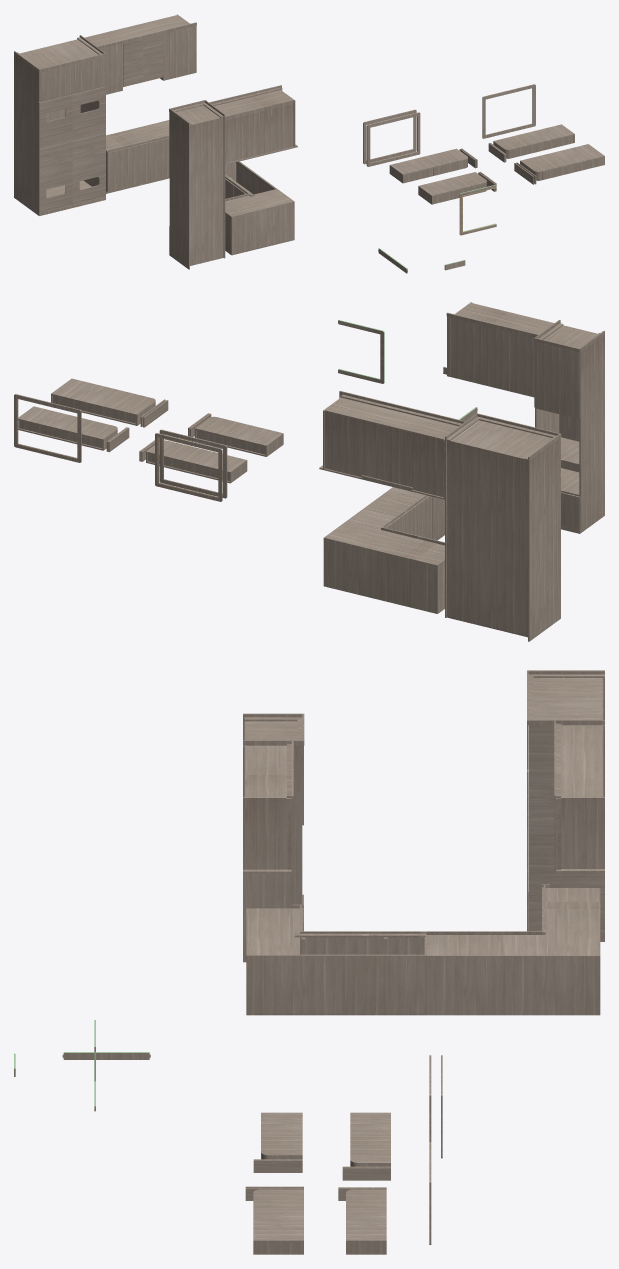
3 views of the same model, one above another, from view 1: azimuth 30°, elevation 25°; view 2: azimuth 150°, elevation 25°; view 3: azimuth 270°, elevation 25° (orthographic). The views are drawn at different scales.
Visible parts, largest first — view 1: Geom3D_ABF_PART_49____LYR_[Layer0]____49. bếp TỦ ĐỨNG-HẬU, Geom3D_ABF_PART_6____LYR_[CANH]____6. TỦ LẠNH-CÁNH, Geom3D_ABF_PART_16____LYR_[Layer0]____16. TỦ LẠNH-HÔNG TRÁI, Geom3D_ABF_PART_9____LYR_[CANH]____9. TỦ LẠNH-CÁNH, Geom3D_ABF_PART_85____LYR_[Layer0]____85. BẾPT1-HẬU, Geom3D_ABF_PART_40____LYR_[Layer0]____40. bếp TỦ ĐỨNG-HÔNG P, Geom3D_ABF_PART_110____LYR_[Layer0]____110. BẾPD4-HẬU, Geom3D_ABF_PART_27____LYR_[CANH]____27. BẾPT2-CÁNH, Geom3D_ABF_PART_207____LYR_[Layer0]____207. PN3-BÀN LV-NÓC, Geom3D_ABF_PART_14____LYR_[Layer0]____14. TỦ LẠNH-NÓC, Geom3D_ABF_PART_53____LYR_[Layer0]____53. BẾPT2-NÓC, Geom3D_ABF_PART_97____LYR_[Layer0]____97. BẾPD4-NÓC (+20 smaller); view 2: Geom3D_ABF_PART_5____LYR_[Layer0]____5. TỦ LẠNH-HẬU, Geom3D_ABF_PART_54____LYR_[Layer0]____54. BẾPT2-HẬU, Geom3D_ABF_PART_16____LYR_[Layer0]____16. TỦ LẠNH-HÔNG TRÁI, Geom3D_ABF_PART_40____LYR_[Layer0]____40. bếp TỦ ĐỨNG-HÔNG P, Geom3D_ABF_PART_148____LYR_[Layer0]____148. BẾPD2-HẬU, Geom3D_ABF_PART_33____LYR_[CANH]____33. bếp TỦ ĐỨNG-CÁNH, Geom3D_ABF_PART_117____LYR_[Layer0]____117. BẾPD2-NÓC, Geom3D_ABF_PART_14____LYR_[Layer0]____14. TỦ LẠNH-NÓC, Geom3D_ABF_PART_53____LYR_[Layer0]____53. BẾPT2-NÓC, Geom3D_ABF_PART_207____LYR_[Layer0]____207. PN3-BÀN LV-NÓC, Geom3D_ABF_PART_78____LYR_[CANH]____78. BẾPT1-CÁNH VÁT, Geom3D_ABF_PART_72____LYR_[CANH]____72. BẾPT1-CÁNH VÁT (+25 smaller); view 3: Geom3D_ABF_PART_109____LYR_[Layer0]____109. BẾPD4-HẬU, Geom3D_ABF_PART_147____LYR_[Layer0]____147. BẾPD2-HẬU, Geom3D_ABF_PART_4____LYR_[Layer0]____4. TỦ LẠNH-HÔNG PHẢI, Geom3D_ABF_PART_145____LYR_[Layer0]____145. BẾPD3-HẬU, Geom3D_ABF_PART_117____LYR_[Layer0]____117. BẾPD2-NÓC, Geom3D_ABF_PART_32____LYR_[Layer0]____32. bếp TỦ ĐỨNG-HÔNG T, Geom3D_ABF_PART_81____LYR_[Layer0]____81. BẾPT1-HÔNG TRÁI, Geom3D_ABF_PART_52____LYR_[Layer0]____52. BẾPT2-HÔNG PHẢI, Geom3D_ABF_PART_53____LYR_[Layer0]____53. BẾPT2-NÓC, Geom3D_ABF_PART_14____LYR_[Layer0]____14. TỦ LẠNH-NÓC, Geom3D_ABF_PART_207____LYR_[Layer0]____207. PN3-BÀN LV-NÓC, Geom3D_ABF_PART_97____LYR_[Layer0]____97. BẾPD4-NÓC (+7 smaller).
Part boxes in pixels (x1,y1,x2,y2): Geom3D_ABF_PART_49____LYR_[Layer0]____49. bếp TỦ ĐỨNG-HẬU: [190, 117, 223, 265]; Geom3D_ABF_PART_6____LYR_[CANH]____6. TỦ LẠNH-CÁNH: [38, 94, 72, 213]; Geom3D_ABF_PART_16____LYR_[Layer0]____16. TỦ LẠNH-HÔNG TRÁI: [14, 54, 39, 215]; Geom3D_ABF_PART_9____LYR_[CANH]____9. TỦ LẠNH-CÁNH: [72, 86, 105, 204]; Geom3D_ABF_PART_85____LYR_[Layer0]____85. BẾPT1-HẬU: [225, 100, 293, 162]; Geom3D_ABF_PART_40____LYR_[Layer0]____40. bếp TỦ ĐỨNG-HÔNG P: [169, 112, 189, 269]; Geom3D_ABF_PART_110____LYR_[Layer0]____110. BẾPD4-HẬU: [231, 201, 294, 255]; Geom3D_ABF_PART_27____LYR_[CANH]____27. BẾPT2-CÁNH: [162, 26, 193, 80]; Geom3D_ABF_PART_207____LYR_[Layer0]____207. PN3-BÀN LV-NÓC: [520, 144, 604, 172]; Geom3D_ABF_PART_14____LYR_[Layer0]____14. TỦ LẠNH-NÓC: [20, 39, 98, 68]; Geom3D_ABF_PART_53____LYR_[Layer0]____53. BẾPT2-NÓC: [85, 15, 188, 46]; Geom3D_ABF_PART_97____LYR_[Layer0]____97. BẾPD4-NÓC: [225, 189, 293, 217]; Geom3D_ABF_PART_5____LYR_[Layer0]____5. TỦ LẠNH-HẬU: [447, 441, 527, 637]; Geom3D_ABF_PART_54____LYR_[Layer0]____54. BẾPT2-HẬU: [325, 410, 444, 497]; Geom3D_ABF_PART_16____LYR_[Layer0]____16. TỦ LẠNH-HÔNG TRÁI: [528, 438, 560, 641]; Geom3D_ABF_PART_40____LYR_[Layer0]____40. bếp TỦ ĐỨNG-HÔNG P: [579, 335, 604, 532]; Geom3D_ABF_PART_148____LYR_[Layer0]____148. BẾPD2-HẬU: [323, 537, 414, 608]; Geom3D_ABF_PART_33____LYR_[CANH]____33. bếp TỦ ĐỨNG-CÁNH: [534, 342, 580, 418]; Geom3D_ABF_PART_117____LYR_[Layer0]____117. BẾPD2-NÓC: [325, 509, 436, 559]; Geom3D_ABF_PART_14____LYR_[Layer0]____14. TỦ LẠNH-NÓC: [451, 420, 551, 458]; Geom3D_ABF_PART_53____LYR_[Layer0]____53. BẾPT2-NÓC: [326, 398, 458, 439]; Geom3D_ABF_PART_207____LYR_[Layer0]____207. PN3-BÀN LV-NÓC: [51, 378, 155, 415]; Geom3D_ABF_PART_78____LYR_[CANH]____78. BẾPT1-CÁNH VÁT: [479, 324, 509, 391]; Geom3D_ABF_PART_72____LYR_[CANH]____72. BẾPT1-CÁNH VÁT: [450, 317, 479, 383]; Geom3D_ABF_PART_109____LYR_[Layer0]____109. BẾPD4-HẬU: [247, 955, 426, 1015]; Geom3D_ABF_PART_147____LYR_[Layer0]____147. BẾPD2-HẬU: [503, 955, 599, 1015]; Geom3D_ABF_PART_4____LYR_[Layer0]____4. TỦ LẠNH-HÔNG PHẢI: [529, 725, 604, 941]; Geom3D_ABF_PART_145____LYR_[Layer0]____145. BẾPD3-HẬU: [426, 955, 503, 1015]; Geom3D_ABF_PART_117____LYR_[Layer0]____117. BẾPD2-NÓC: [503, 901, 599, 955]; Geom3D_ABF_PART_32____LYR_[Layer0]____32. bếp TỦ ĐỨNG-HÔNG T: [243, 745, 302, 962]; Geom3D_ABF_PART_81____LYR_[Layer0]____81. BẾPT1-HÔNG TRÁI: [243, 797, 286, 869]; Geom3D_ABF_PART_52____LYR_[Layer0]____52. BẾPT2-HÔNG PHẢI: [561, 797, 604, 868]; Geom3D_ABF_PART_53____LYR_[Layer0]____53. BẾPT2-NÓC: [561, 726, 602, 797]; Geom3D_ABF_PART_14____LYR_[Layer0]____14. TỦ LẠNH-NÓC: [533, 678, 602, 719]; Geom3D_ABF_PART_207____LYR_[Layer0]____207. PN3-BÀN LV-NÓC: [253, 1189, 303, 1242]; Geom3D_ABF_PART_97____LYR_[Layer0]____97. BẾPD4-NÓC: [247, 908, 299, 955].
Size of the model in its own units: 8.36 by 2.46 by 5.82.
8 materials, 1 textured.
